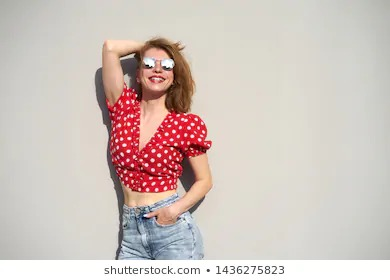C_short blouse: (105, 88, 212, 191)
